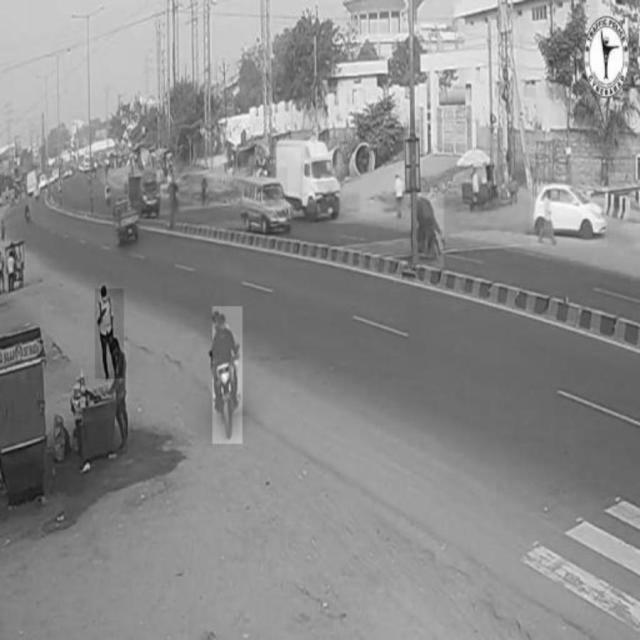accident: (413, 192, 443, 268)
person: (95, 289, 123, 379), (108, 340, 130, 452)
vehicle: (274, 140, 340, 213), (531, 187, 608, 248), (212, 307, 242, 444), (245, 168, 287, 234), (129, 175, 164, 216)
